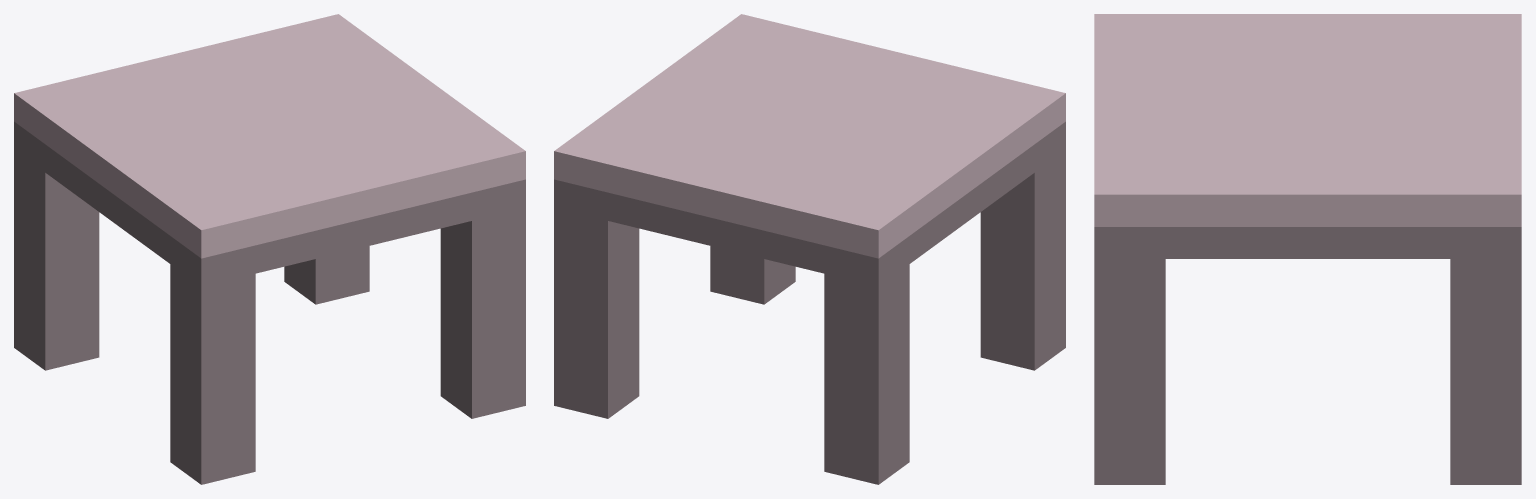
Rendered from mesa_bordado_01.glb.
The picture shows the model from 3 angles, left to right: view 1: azimuth 30°, elevation 25°; view 2: azimuth 150°, elevation 25°; view 3: azimuth 270°, elevation 25°; orthographic projection. The views are drawn at different scales.
Parts seen in each view (by area): view 1: mesa_bordado; view 2: mesa_bordado; view 3: mesa_bordado.
Part boxes in pixels (x1=…): mesa_bordado: x1=14, y1=14, x2=525, y2=484; mesa_bordado: x1=554, y1=14, x2=1065, y2=484; mesa_bordado: x1=1094, y1=14, x2=1521, y2=484.
Bounding box in the file's own units: 1 × 0.75 × 1.
